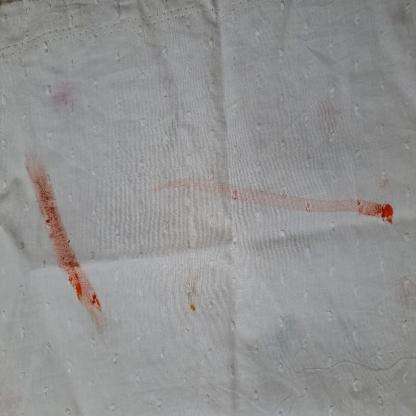spot: (158, 180, 400, 232), (24, 157, 52, 200), (71, 272, 101, 312), (37, 194, 62, 230), (60, 247, 81, 280), (48, 225, 70, 253), (53, 88, 72, 108), (189, 292, 198, 318), (380, 170, 390, 192)
